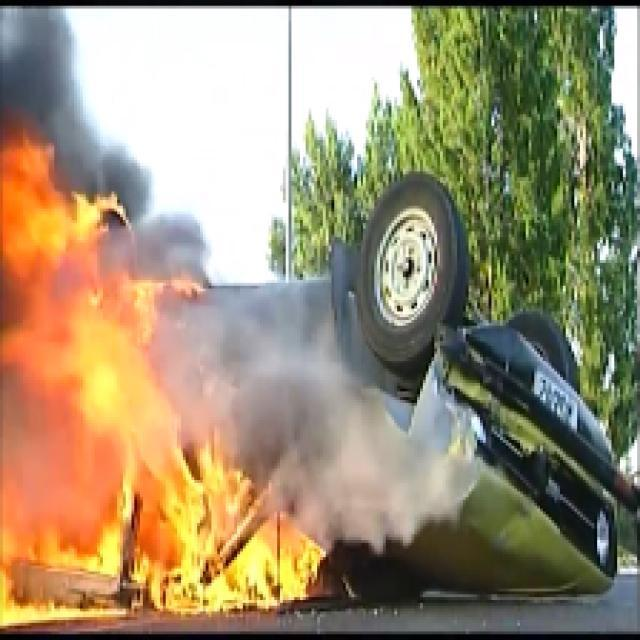Fire: (2, 128, 328, 640)
Smoke: (240, 286, 474, 540), (2, 17, 74, 126)
